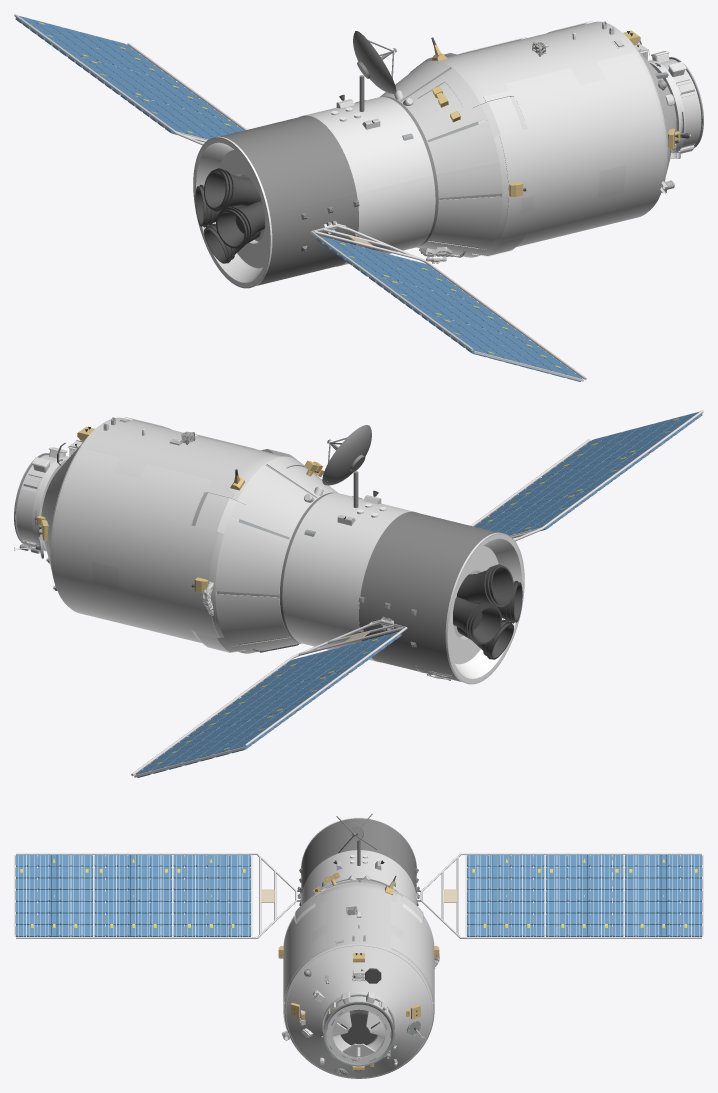
The model's file is Satellite.glb.
3 views of the same model, one above another, from view 1: azimuth 30°, elevation 25°; view 2: azimuth 150°, elevation 25°; view 3: azimuth 270°, elevation 25° (orthographic). The views are drawn at different scales.
Visible parts, largest first — view 1: 管道_3, Box10_1, Cylinder08, 管道_3_2, 管道_6, 管道_5, 圆柱_1_2, Cylinder76, Cylinder75, 管道_8_16, 管道_9, 球体 (+4 smaller); view 2: 管道_3, Box10_1, Cylinder08, 管道_3_2, 管道_6, 管道_5, 圆柱_1_2, Cylinder76, Cylinder73, 球体, 管道_8_16, 管道_13 (+4 smaller); view 3: Box10_1, Cylinder08, 管道_3, 管道_3_2, 管道_5, 圆柱_1_2, Line11_2, 管道_8_16, 管道_1_7, 管道_2_2, 管道_4.
Boxes of the visible parts, <box> form: 管道_3: <box>432,21,664,255</box>; Box10_1: <box>15,15,581,381</box>; Cylinder08: <box>193,21,676,288</box>; 管道_3_2: <box>220,96,438,285</box>; 管道_6: <box>380,60,502,257</box>; 管道_5: <box>300,97,435,266</box>; 圆柱_1_2: <box>14,14,586,379</box>; Cylinder76: <box>204,168,260,211</box>; Cylinder75: <box>216,201,264,248</box>; 管道_8_16: <box>655,57,703,150</box>; 管道_9: <box>473,96,526,136</box>; 球体: <box>353,31,396,93</box>; 管道_3: <box>53,417,285,651</box>; Box10_1: <box>136,411,702,777</box>; Cylinder08: <box>41,417,524,684</box>; 管道_3_2: <box>279,492,497,681</box>; 管道_6: <box>215,456,338,653</box>; 管道_5: <box>282,493,417,662</box>; 圆柱_1_2: <box>131,410,703,775</box>; Cylinder76: <box>457,564,513,607</box>; Cylinder73: <box>453,597,501,644</box>; 球体: <box>322,425,371,485</box>; 管道_8_16: <box>14,453,62,549</box>; 管道_13: <box>191,492,245,533</box>; Box10_1: <box>15,854,702,936</box>; Cylinder08: <box>284,817,433,1078</box>; 管道_3: <box>283,894,434,1064</box>; 管道_3_2: <box>301,818,416,895</box>; 管道_5: <box>301,850,416,905</box>; 圆柱_1_2: <box>16,853,701,938</box>; Line11_2: <box>14,855,703,936</box>; 管道_8_16: <box>323,995,394,1066</box>; 管道_1_7: <box>326,1004,391,1063</box>; 管道_2_2: <box>285,945,432,1078</box>; 管道_4: <box>333,1009,384,1055</box>.
Bounding box in the file's own units: 16.26 × 7.93 × 27.48.
